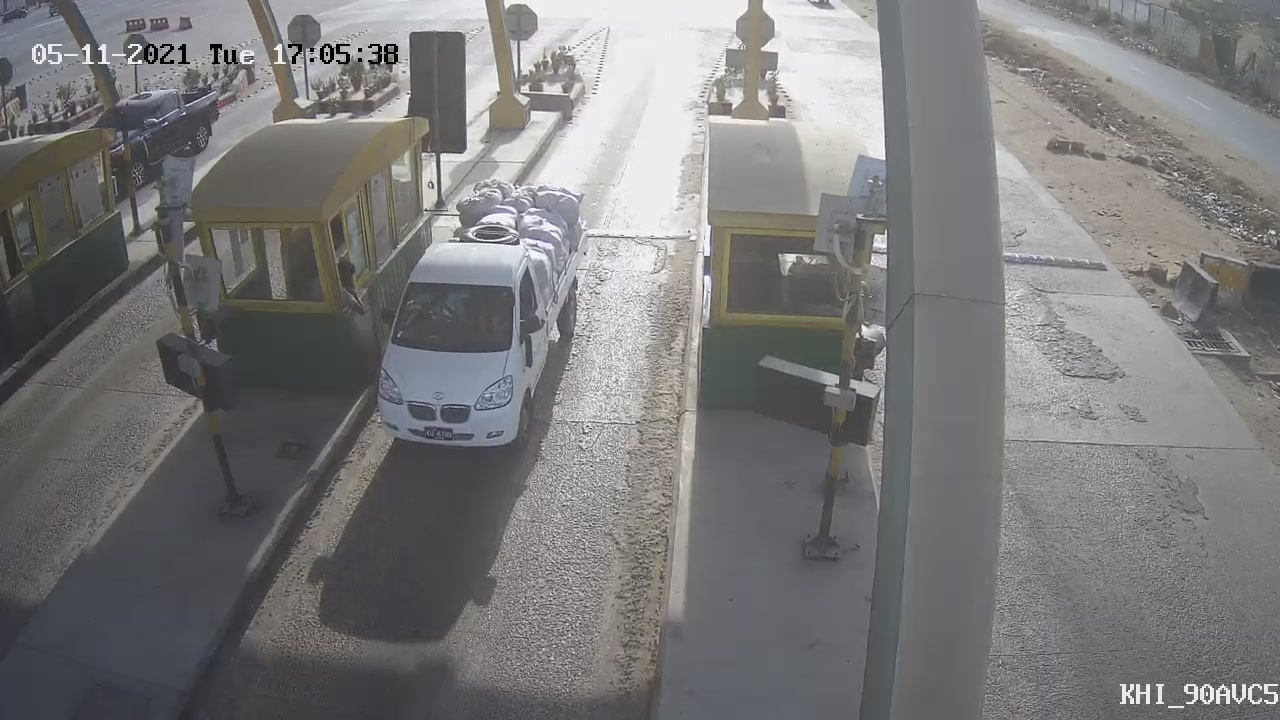F2: (340, 164, 611, 470)
